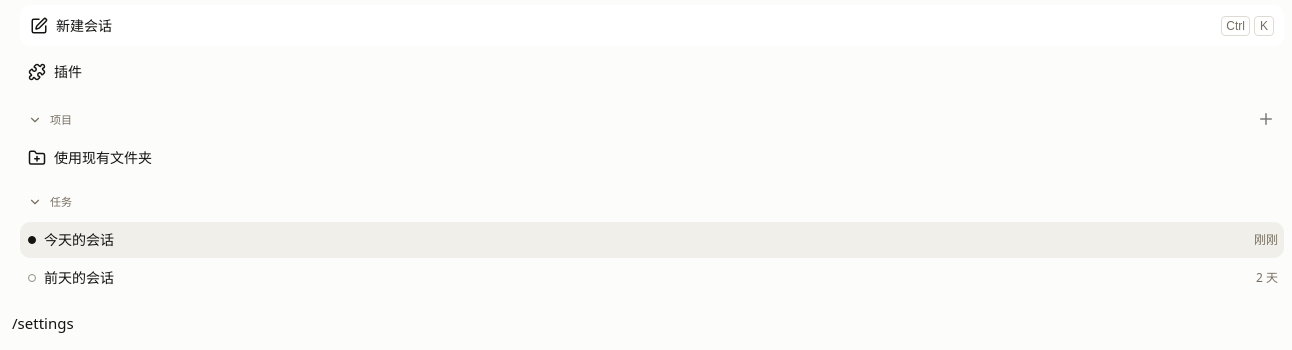
Scenario: SessionsController：首屏与列表 › 点会话：选中它并回到对话页
Step 1. Click the button with test id "session-item-t-b" → (79, 278), box [20,260,1200,296]
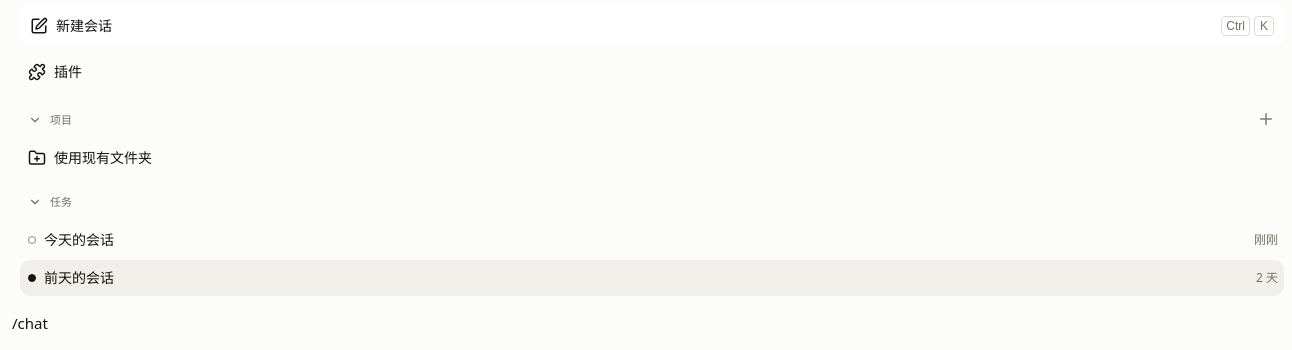
Result: the text with test id "location" reads "/chat" at [12,313,48,333]
